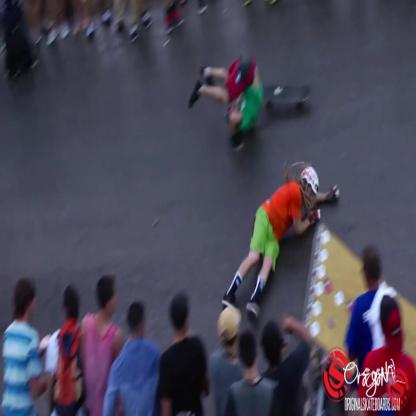Fall_Down: (220, 163, 340, 322)
